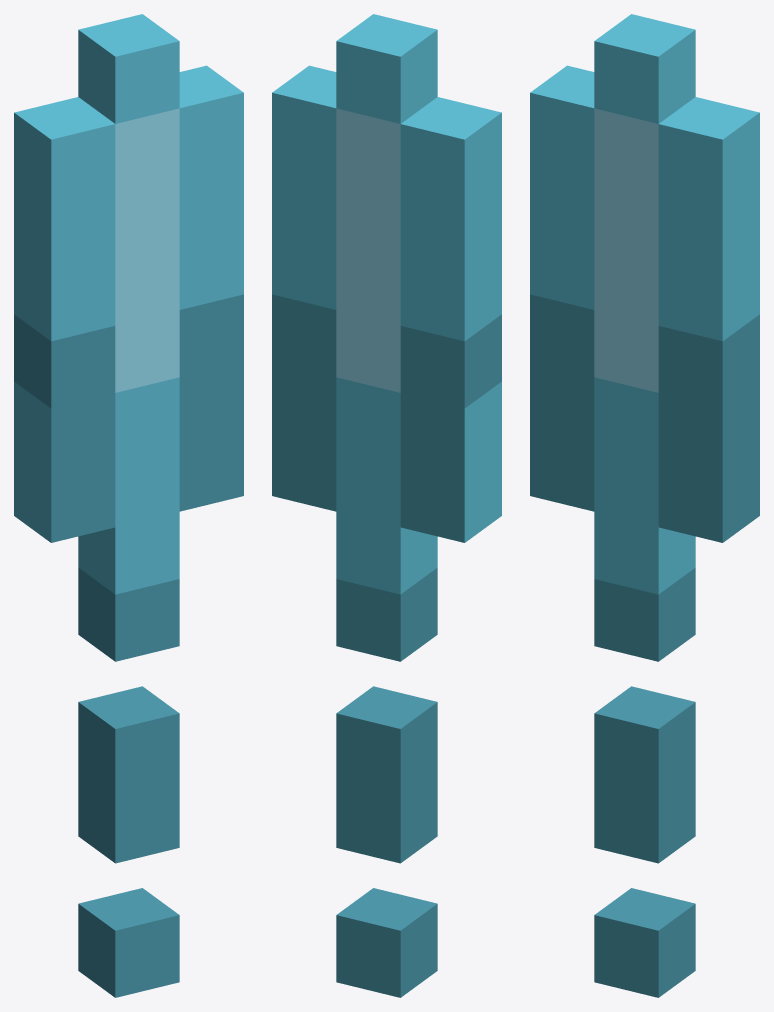
The model's file is Proyectil 1.fbx.
3 renders of one model, left to right at view 1: azimuth 30°, elevation 25°; view 2: azimuth 150°, elevation 25°; view 3: azimuth 330°, elevation 25°, orthographic.
Parts seen in each view (by area): view 1: Proyectil; view 2: Proyectil; view 3: Proyectil.
Part boxes in pixels (box(x1,y1,x2,y2)): Proyectil: box(14, 14, 243, 997); Proyectil: box(272, 14, 501, 997); Proyectil: box(530, 14, 759, 997).
Bounding box in the file's own units: 3 × 14 × 1.
